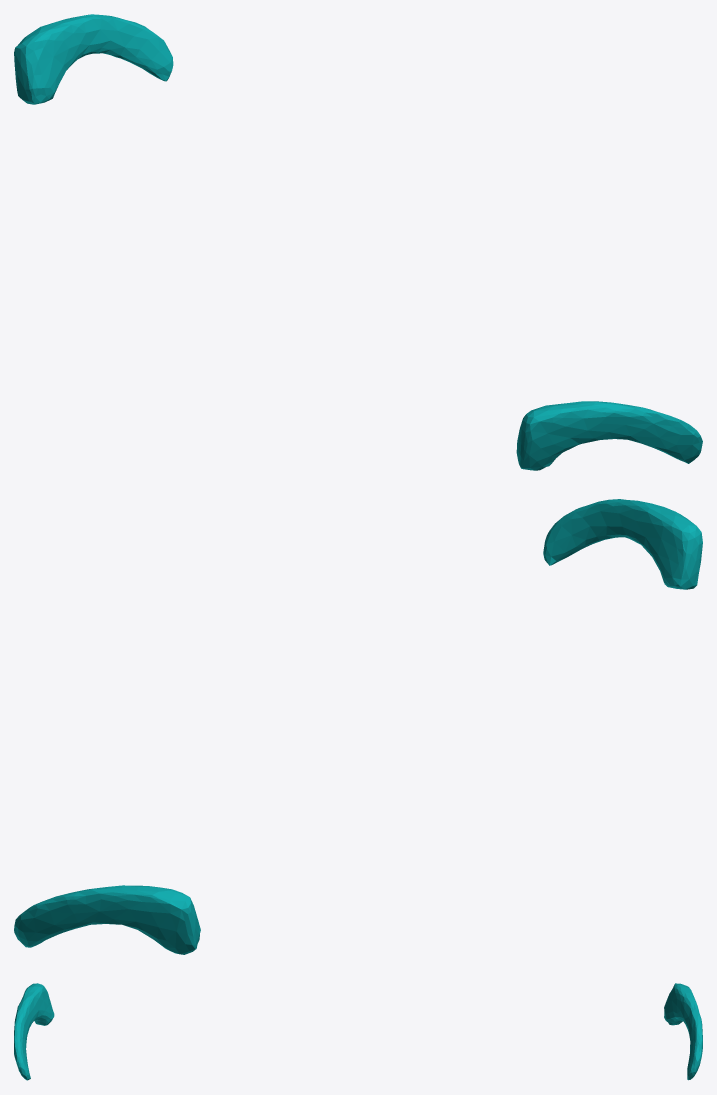
3 views of the same model, one above another, from view 1: azimuth 30°, elevation 25°; view 2: azimuth 150°, elevation 25°; view 3: azimuth 270°, elevation 25° (orthographic). The views are drawn at different scales.
Parts seen in each view (by area): view 1: 520.obj; view 2: 520.obj; view 3: 520.obj.
Part boxes in pixels (left/top/right/bottom): 520.obj: left=14, top=14, right=702, bottom=470; 520.obj: left=14, top=499, right=702, bottom=954; 520.obj: left=14, top=983, right=702, bottom=1080.
Bounding box in the file's own units: 1581 × 775 × 8876.
